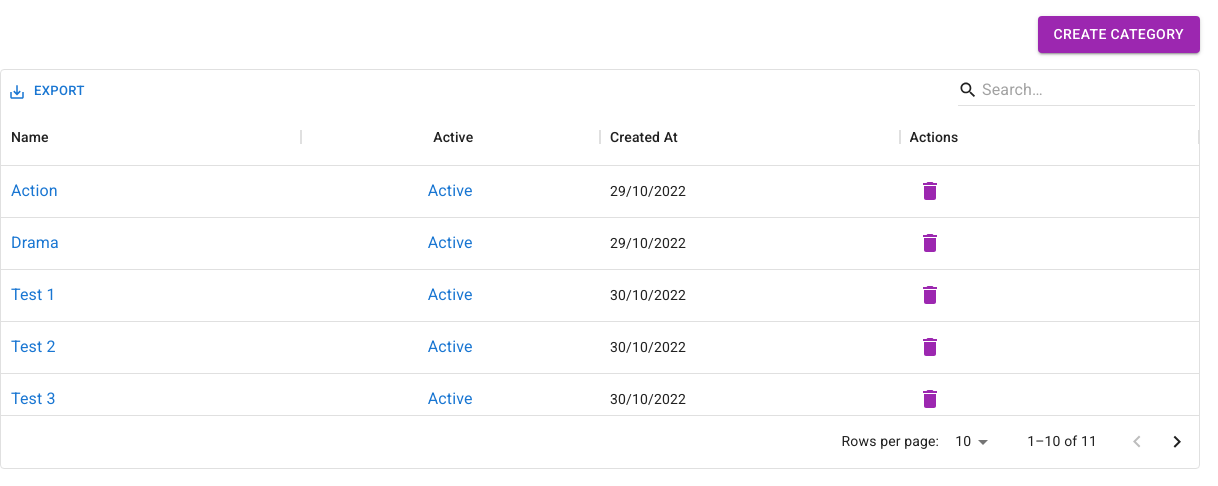
Test case: ListCategory › should handle filter change
This screenshot has width=1218, height=486.
Expected: the text "Action" is shown, [11,179,58,203]
Type "Drama" into the search field with placeholder "Search…" at x=1074, y=90, box [982,74,1165,106]
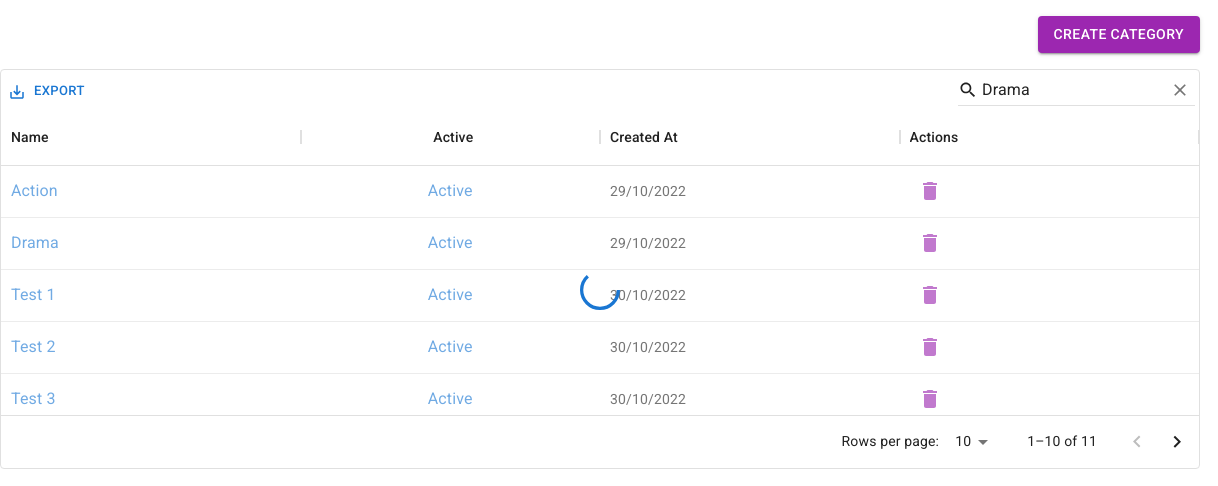
Expected: the progress indicator is shown, [580,270,620,310]
